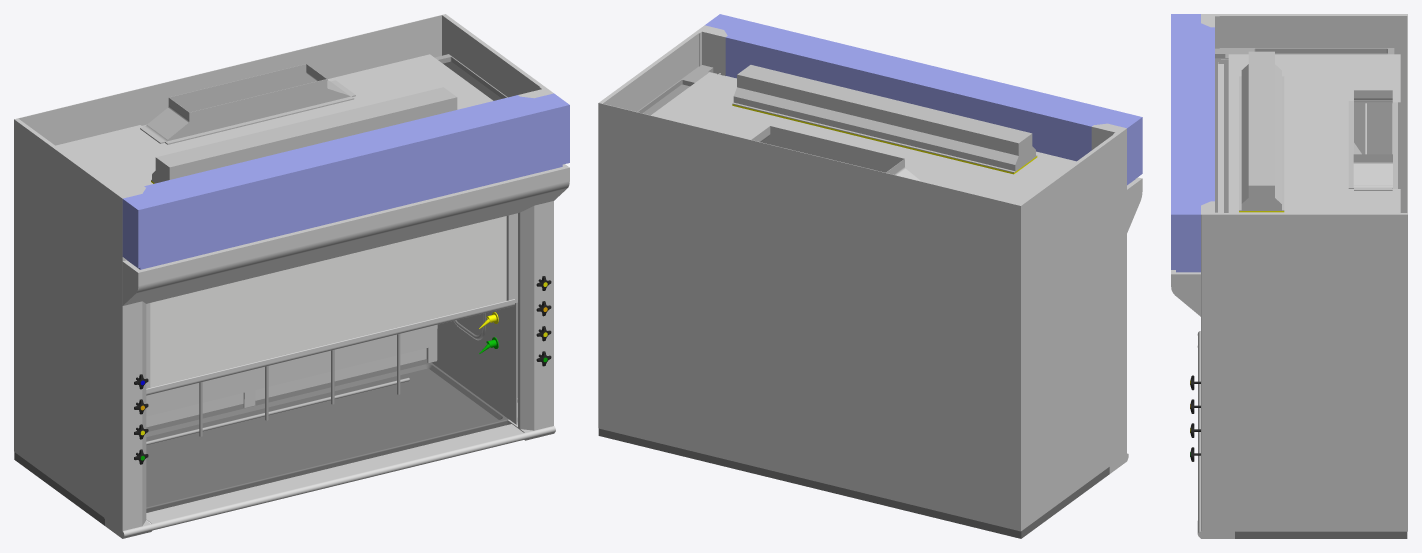
3 renders of one model, left to right at view 1: azimuth 30°, elevation 25°; view 2: azimuth 150°, elevation 25°; view 3: azimuth 270°, elevation 25°, orthographic. The views are drawn at different scales.
Visible parts, largest first — view 1: Body1.003, Body29, Body3.003, Body1.013, Body1.005, Body1.008, Body1.007, Body32, Body32.001, Body2.003, Body1.002, Body1.018 (+12 smaller); view 2: Body1.008, Body29, Body1.003, Body1.007, Body2.003, Body2.004, Body1.013, Body29.001, Body32, Body6.002, Body32.001; view 3: Body29.001, Body1.007, Body1.003, Body29, Body2.003, Body32.001, Body28, Body2.004, Body3.002, Body1.013, Body13, Body1.005 (+8 smaller).
Part boxes in pixels (x1,y1,x2,y2): Body1.003: (122, 93, 569, 267); Body29: (14, 118, 118, 525); Body3.003: (150, 216, 506, 387); Body1.013: (14, 359, 508, 525); Body1.005: (122, 164, 569, 305); Body1.008: (14, 14, 445, 451); Body1.007: (56, 54, 493, 191); Body32: (115, 186, 146, 530); Body32.001: (518, 87, 553, 430); Body2.003: (151, 88, 457, 183); Body1.002: (146, 424, 525, 529); Body1.018: (146, 324, 437, 416); Body1.008: (598, 103, 1021, 531); Body29: (1017, 132, 1120, 530); Body1.003: (705, 14, 1142, 184); Body1.007: (651, 72, 1075, 204); Body2.003: (732, 65, 1037, 172); Body2.004: (732, 72, 948, 155); Body1.013: (598, 428, 1109, 538); Body29.001: (599, 30, 701, 115); Body32: (1091, 123, 1126, 458); Body6.002: (761, 126, 921, 181); Body32.001: (698, 25, 727, 75); Body29.001: (1214, 213, 1407, 531); Body1.007: (1228, 54, 1400, 212); Body1.003: (1171, 14, 1214, 269); Body29: (1214, 14, 1407, 212); Body2.003: (1239, 51, 1284, 203); Body32.001: (1201, 201, 1219, 531); Body28: (1221, 59, 1392, 212); Body2.004: (1239, 146, 1284, 210); Body3.002: (1354, 154, 1392, 190); Body1.013: (1235, 531, 1407, 538); Body13: (1215, 48, 1394, 59); Body1.005: (1171, 270, 1200, 316).
Size of the model in its own units: 21.95 by 16.54 by 10.94.
